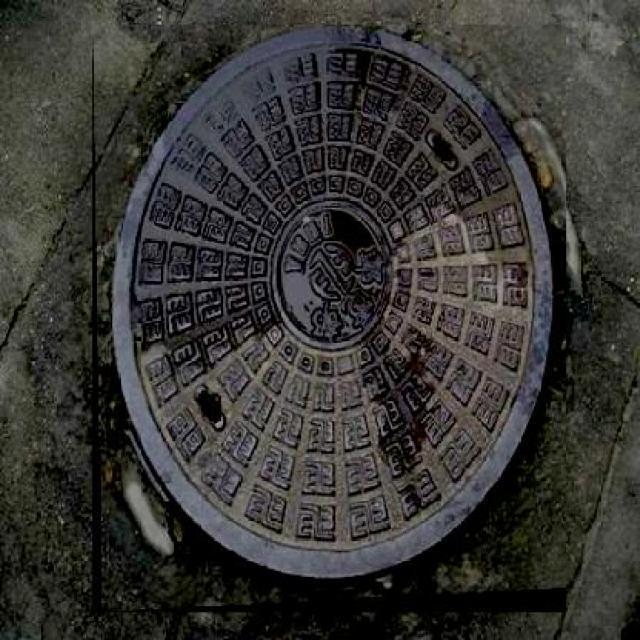Manhole: (96, 25, 570, 612)
